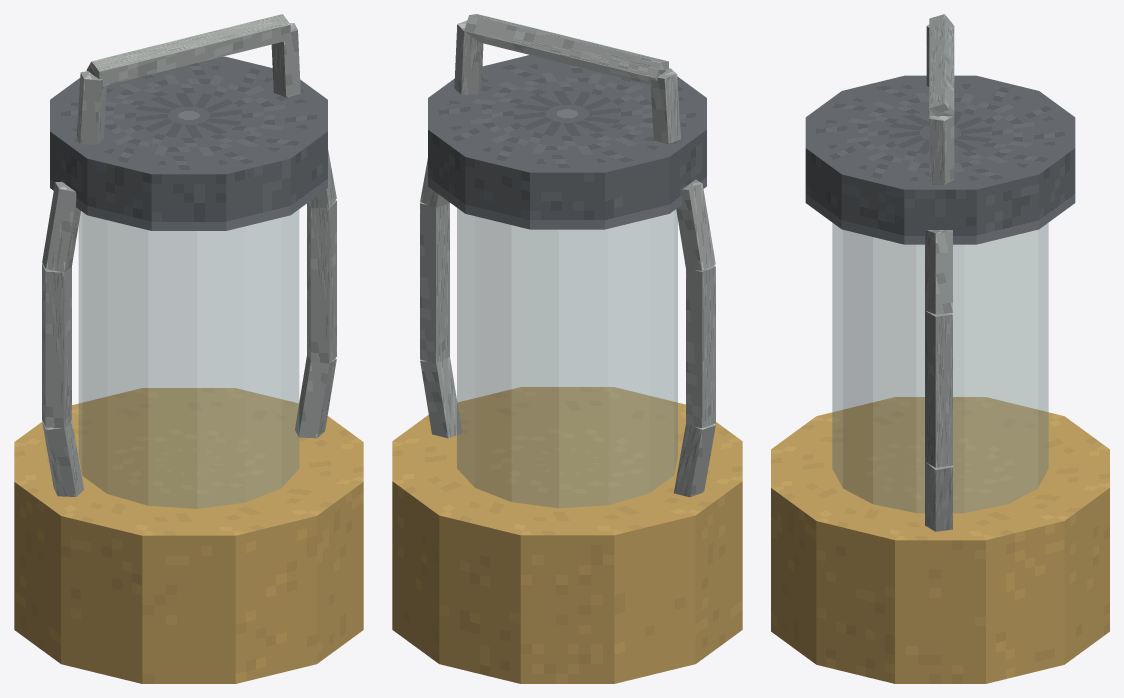
File: propane_lantern.glb
3 views of the same model, side by side, from view 1: azimuth 30°, elevation 25°; view 2: azimuth 150°, elevation 25°; view 3: azimuth 270°, elevation 25° (orthographic). The views are drawn at different scales.
Visible parts, largest first — view 1: block_fuel base, block_glass globe, block_lantern roof, block_globe guard 1 (×2), block_bail handle 1, block_globe guard 0 (×2), block_globe guard 2 (×2), block_bail handle 0, block_bail handle 2; view 2: block_fuel base, block_glass globe, block_lantern roof, block_globe guard 1 (×2), block_bail handle 1, block_globe guard 0 (×2), block_globe guard 2, block_bail handle 0, block_bail handle 2; view 3: block_fuel base, block_glass globe, block_lantern roof, block_globe guard 1, block_bail handle 1, block_globe guard 2, block_globe guard 0, block_bail handle 2.
Part boxes in pixels (x1,y1,x2,y2): block_fuel base: (14,388,363,683); block_glass globe: (78,210,299,508); block_lantern roof: (50,56,327,230); block_globe guard 1 (×2): (42,200,336,428); block_bail handle 1: (86,14,290,86); block_globe guard 0 (×2): (42,354,336,496); block_globe guard 2 (×2): (42,149,336,272); block_bail handle 0: (76,71,106,144); block_bail handle 2: (271,23,300,97); block_fuel base: (392,387,742,683); block_glass globe: (457,208,677,508); block_lantern roof: (428,55,706,229); block_globe guard 1 (×2): (420,202,715,428); block_bail handle 1: (464,14,668,84); block_globe guard 0 (×2): (420,357,715,497); block_globe guard 2: (676,179,715,270); block_bail handle 0: (650,68,680,143); block_bail handle 2: (454,20,483,94); block_fuel base: (771,397,1109,683); block_glass globe: (832,223,1048,513); block_lantern roof: (805,75,1075,244); block_globe guard 1: (925,311,952,467); block_bail handle 1: (929,14,954,115); block_globe guard 2: (925,230,952,314); block_globe guard 0: (925,462,952,531); block_bail handle 2: (929,116,954,184).
Size of the model in its own units: 0.0957 by 0.1726 by 0.0957.
Materials: 2 (2 with a texture image).
